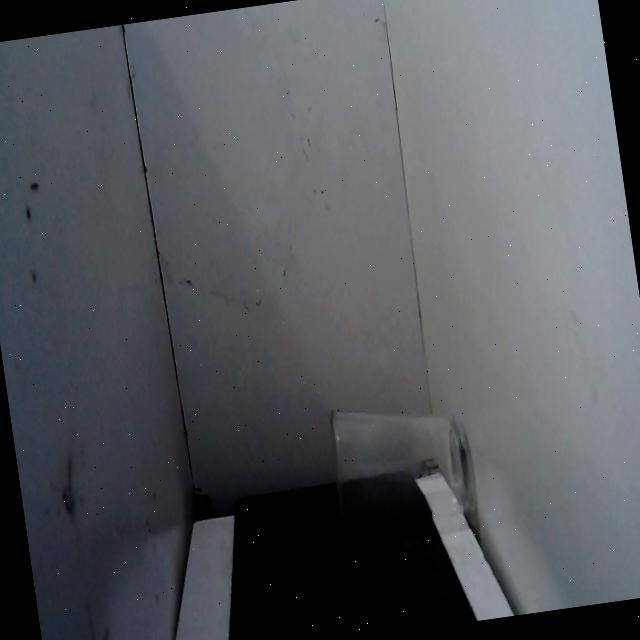vidro: (321, 378, 488, 558)
